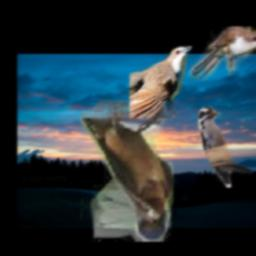Cuckoo: (131, 47, 193, 119), (190, 28, 256, 82)
Swallow: (82, 101, 174, 243)
Woodpecker: (199, 106, 253, 188)
